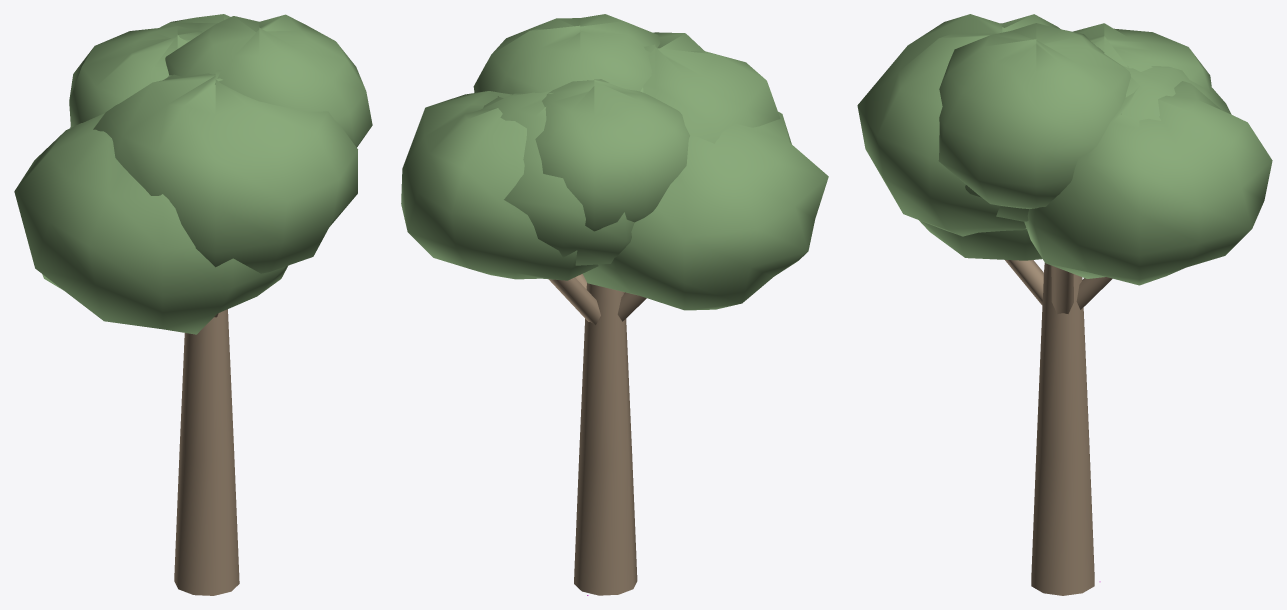
The model's file is Arvore_Frondosa.glb.
3 renders of one model, left to right at view 1: azimuth 30°, elevation 25°; view 2: azimuth 150°, elevation 25°; view 3: azimuth 270°, elevation 25°, orthographic. The views are drawn at different scales.
Parts seen in each view (by area): view 1: Copa@Grass@3A602C, Tronco@Wood@5C442E; view 2: Copa@Grass@3A602C, Tronco@Wood@5C442E; view 3: Copa@Grass@3A602C, Tronco@Wood@5C442E.
Part boxes in pixels (bbox=[...]): Copa@Grass@3A602C: bbox=[14, 14, 372, 334]; Tronco@Wood@5C442E: bbox=[174, 309, 239, 595]; Copa@Grass@3A602C: bbox=[401, 14, 828, 310]; Tronco@Wood@5C442E: bbox=[549, 274, 646, 595]; Copa@Grass@3A602C: bbox=[857, 14, 1272, 285]; Tronco@Wood@5C442E: bbox=[1005, 260, 1112, 595].
Bounding box in the file's own units: 11.22 × 16.76 × 11.21.
